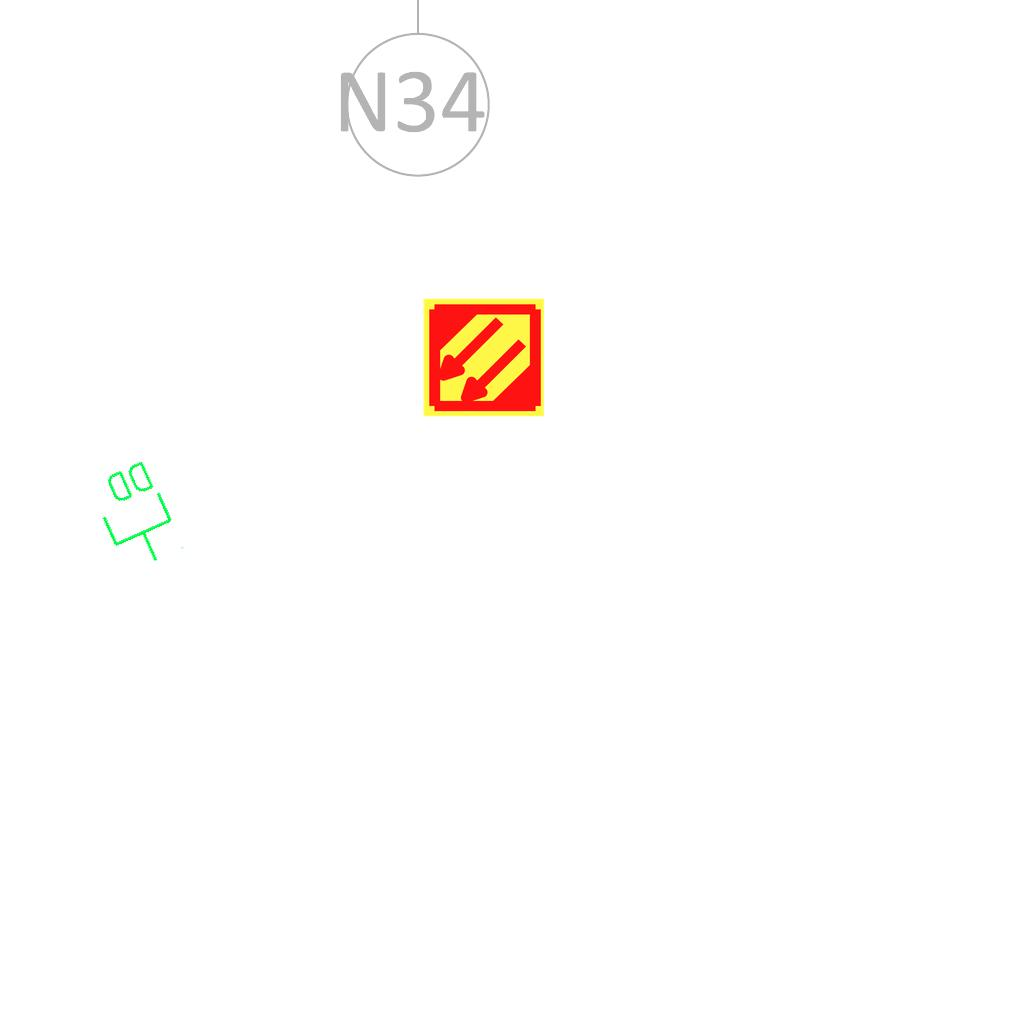ASR_Ansaugrauchmelder: (421, 295, 546, 420)
Datenanschluss_zweifach: (84, 454, 189, 577)
